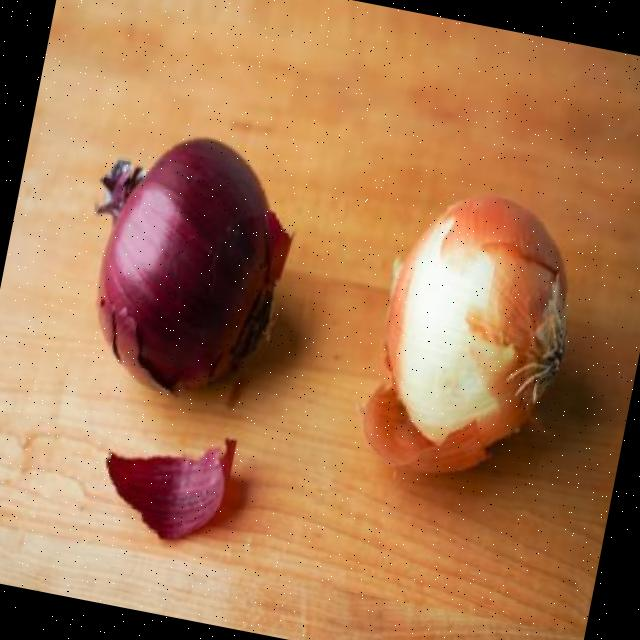Onion: (364, 200, 569, 474), (97, 139, 292, 392)
